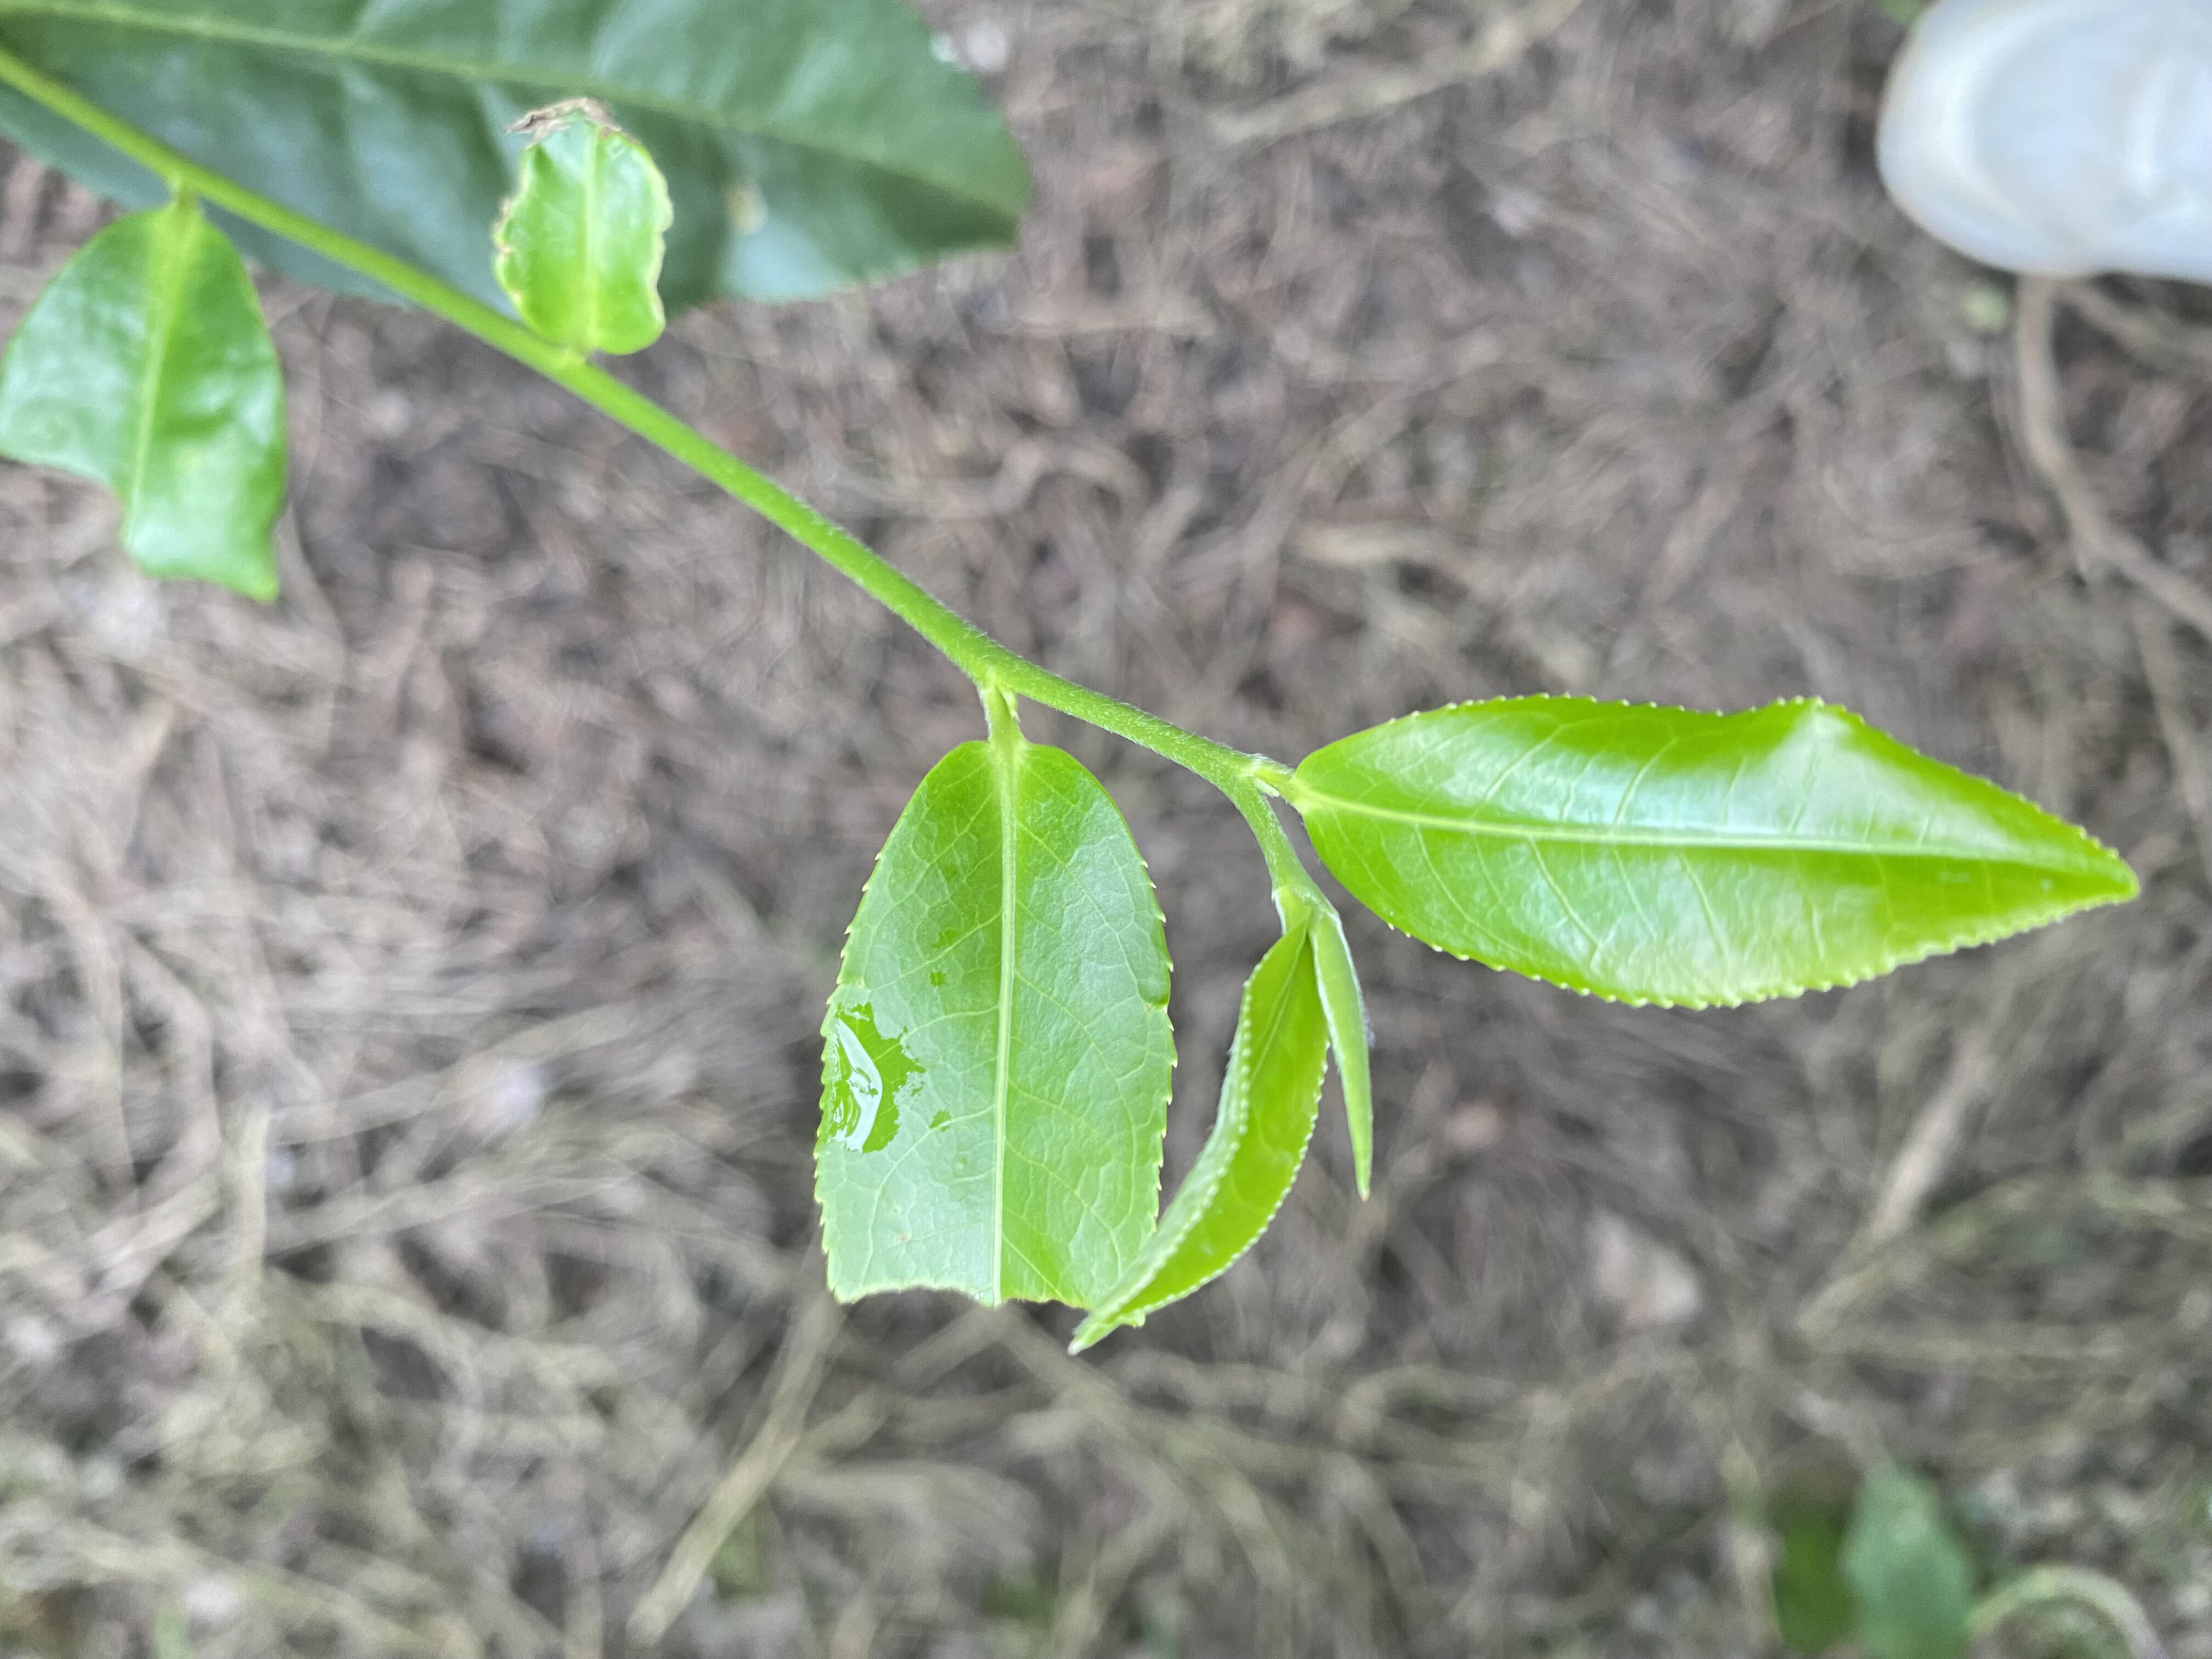chihuo_high: (815, 734, 1179, 1326), (2, 206, 293, 601), (482, 94, 672, 366)
healthy: (1291, 688, 2137, 1016), (1068, 917, 1331, 1356)
